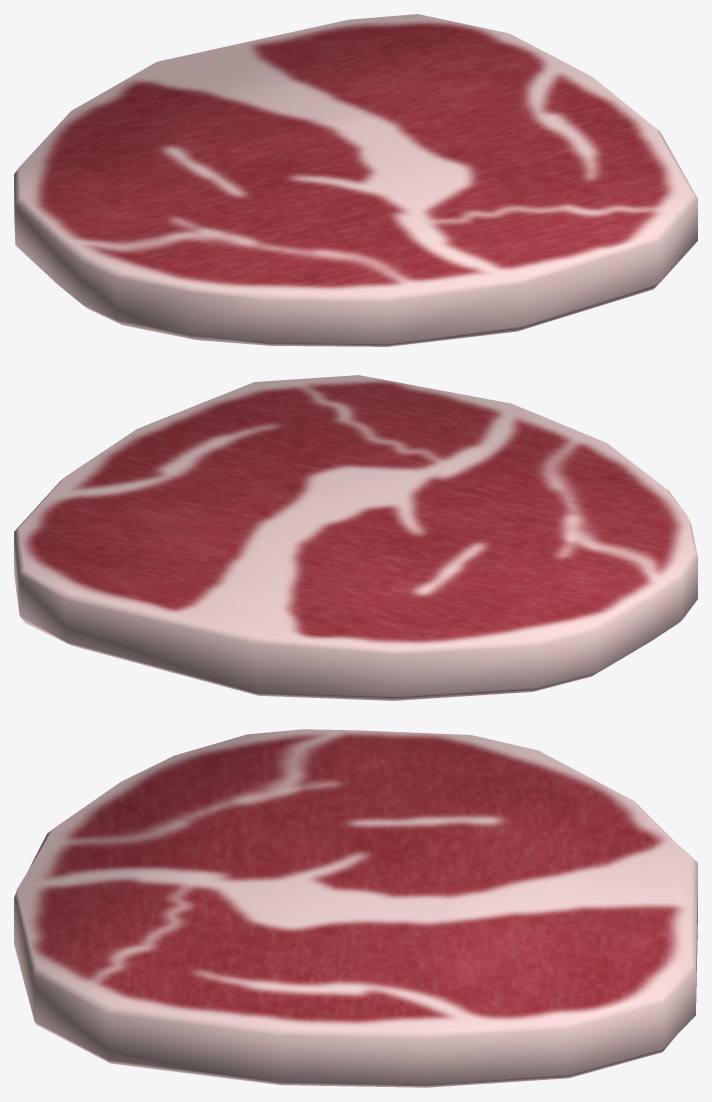
Rendered from Meat.FBX.
3 renders of one model, top to bottom at view 1: azimuth 30°, elevation 25°; view 2: azimuth 150°, elevation 25°; view 3: azimuth 270°, elevation 25°, orthographic. The views are drawn at different scales.
Visible parts, largest first — view 1: Meat001; view 2: Meat001; view 3: Meat001.
Part boxes in pixels (x1,y1,x2,y2): Meat001: (14,14,697,346); Meat001: (14,375,697,700); Meat001: (14,729,697,1087).
Bounding box in the file's own units: 100 × 10.16 × 94.96.
